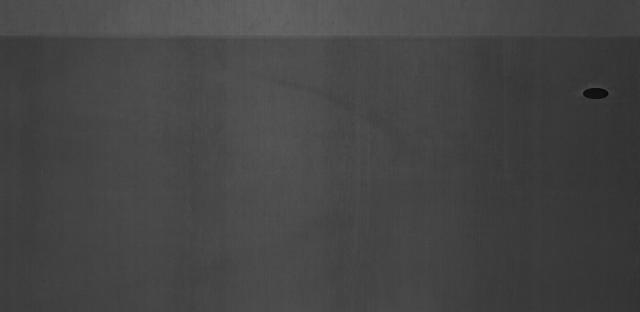punching_hole: (580, 84, 616, 103)
welding_line: (3, 22, 633, 48)
